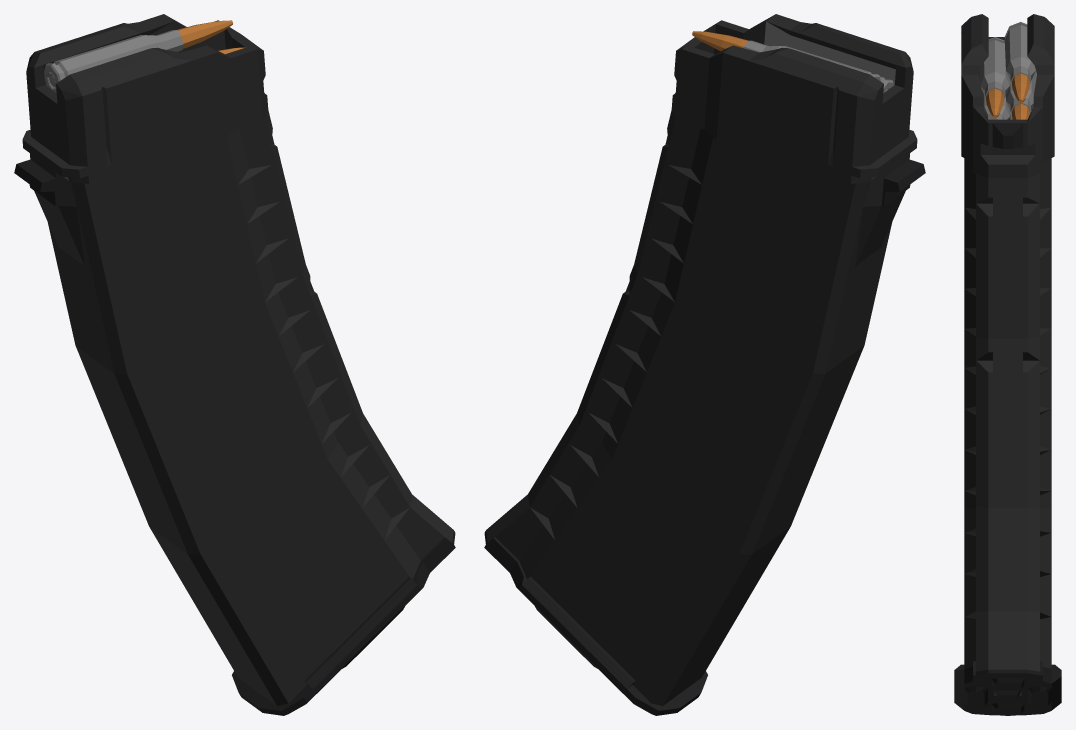
File: mag_545_30.glb
3 views of the same model, side by side, from view 1: azimuth 30°, elevation 25°; view 2: azimuth 150°, elevation 25°; view 3: azimuth 270°, elevation 25° (orthographic). The views are drawn at different scales.
Parts seen in each view (by area): view 1: ak74 30rnd mag (polymer)_2 (×4); view 2: ak74 30rnd mag (polymer)_2 (×3); view 3: ak74 30rnd mag (polymer)_2 (×4).
Boxes of the visible parts, box(x1,y1,x2,y2) form: ak74 30rnd mag (polymer)_2 (×4): box(14, 14, 455, 715); ak74 30rnd mag (polymer)_2 (×3): box(484, 14, 925, 715); ak74 30rnd mag (polymer)_2 (×4): box(954, 14, 1061, 715).
Size of the model in its own units: 1.32 by 2.1 by 0.3312.
